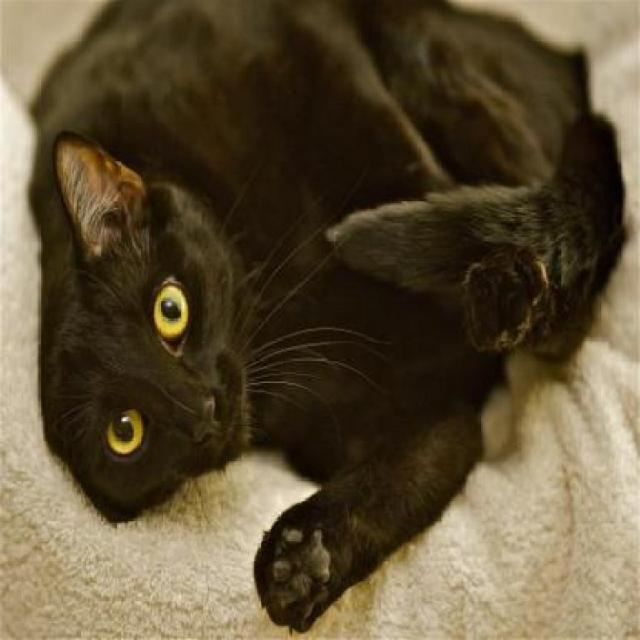cat: (35, 0, 626, 632)
